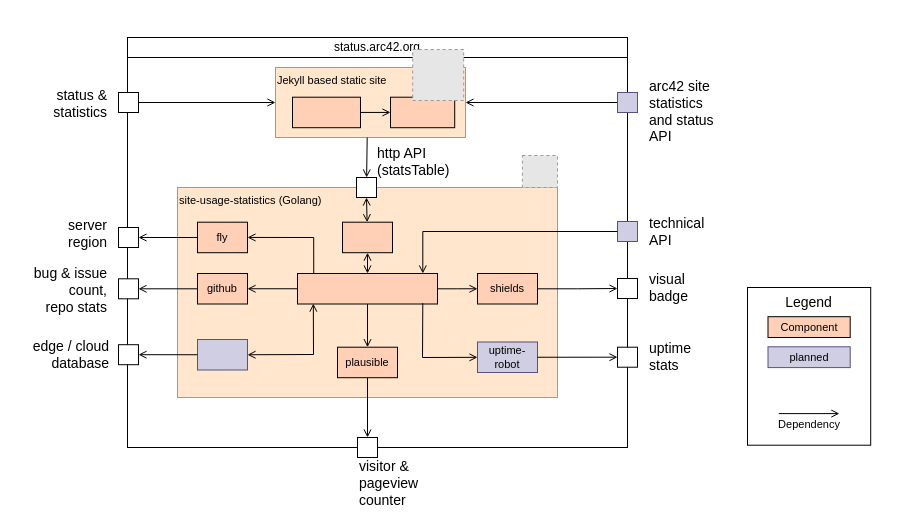
Some shapes in this 924 by 525 pixel diagram are drawn without their labels. Grey dashed boxes stand in for pictures. Each missing label, with the centre of its shape:
"JavaScript & htmx" belongs at pixel 422 112.
"main" belongs at pixel 367 288.
"Markdown / HTML" belongs at pixel 326 112.
"turso DB" belongs at pixel 222 354.
"web-ui" belongs at pixel 367 237.
